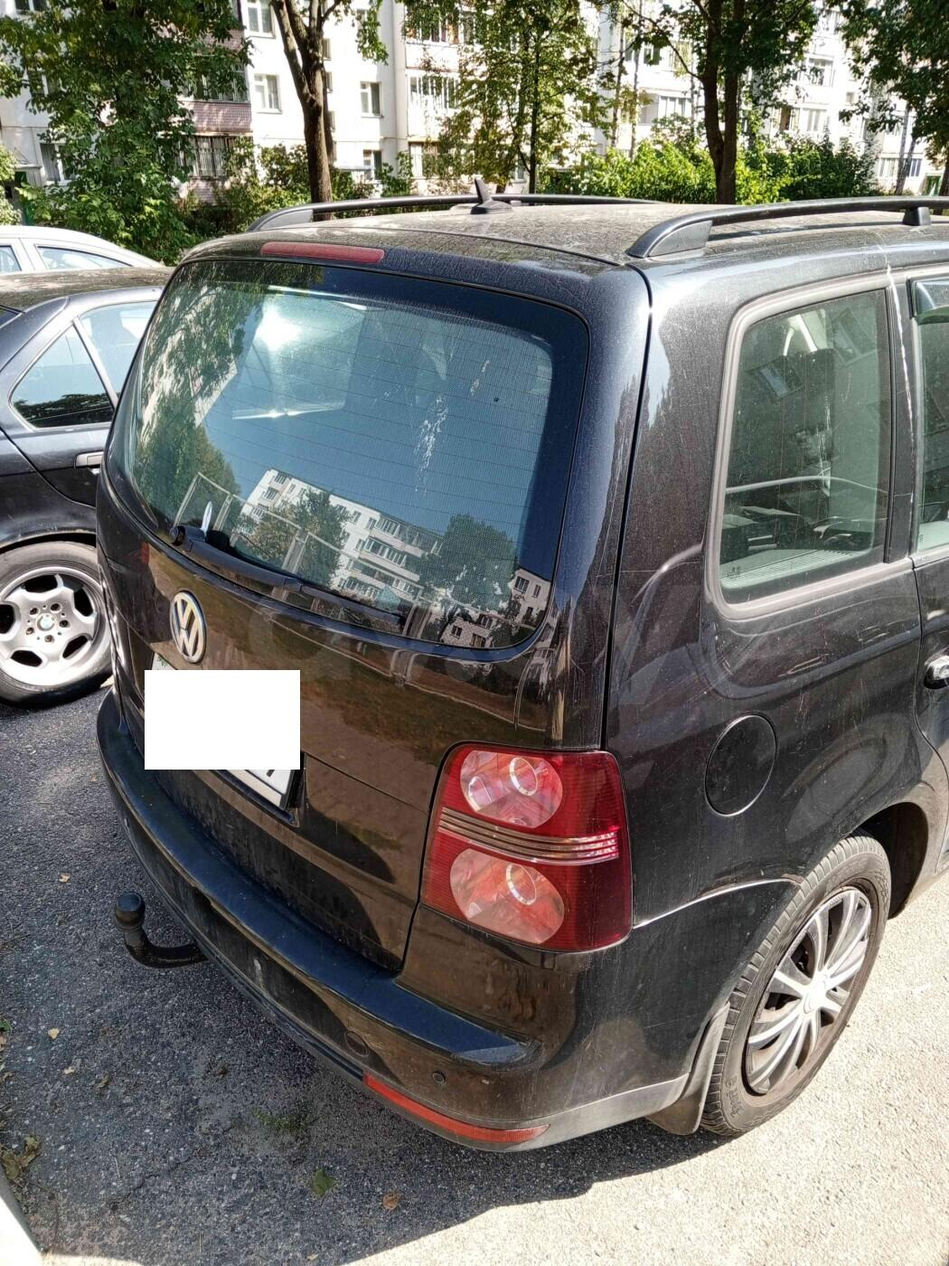Touran_2006-2010: (94, 194, 949, 1157)
